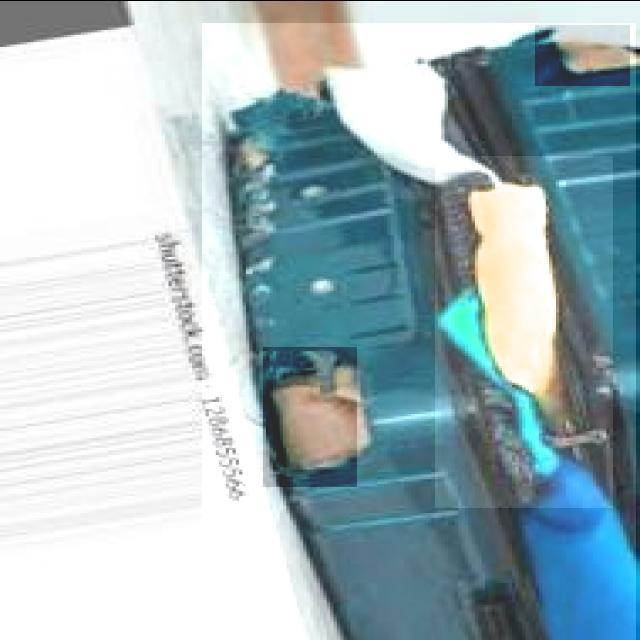Damage-bag: (262, 49, 640, 639), (221, 91, 311, 347), (530, 25, 636, 88)
